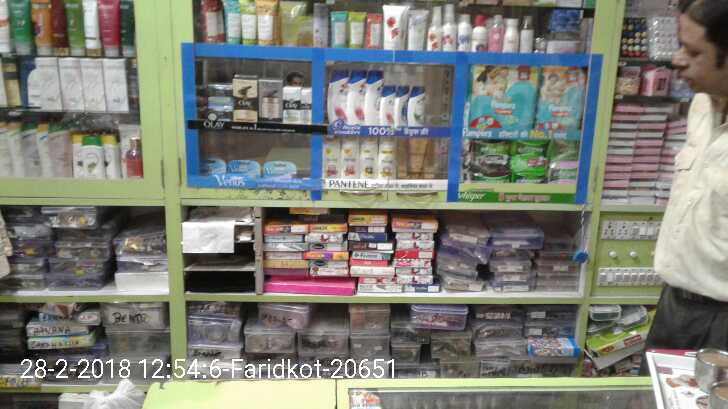venus: (228, 161, 260, 178), (264, 160, 297, 176), (200, 160, 225, 175)
